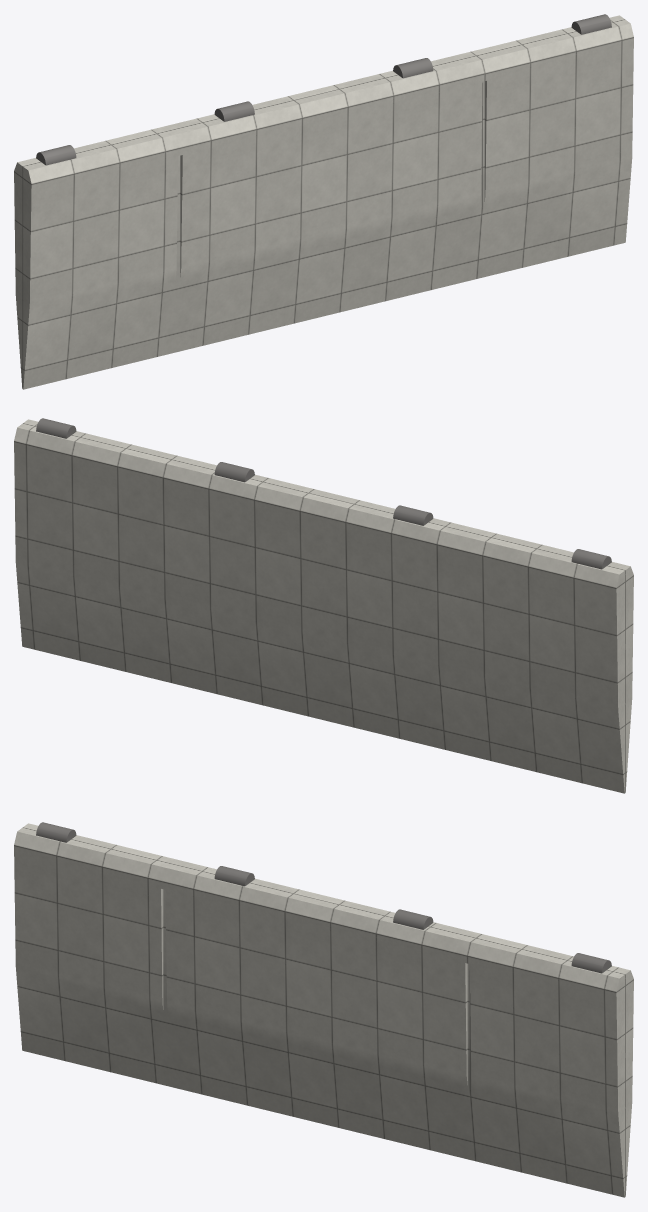
File: ax_aero_25_csf_flap_m.glb
The picture shows the model from 3 angles, top to bottom: view 1: azimuth 30°, elevation 25°; view 2: azimuth 150°, elevation 25°; view 3: azimuth 330°, elevation 25°; orthographic projection.
Parts seen in each view (by area): view 1: surface, hinge_fittings; view 2: surface, hinge_fittings; view 3: surface, hinge_fittings.
Boxes of the visible parts, <box> form: surface: <box>14,15,633,389</box>; hinge_fittings: <box>36,14,611,165</box>; surface: <box>14,419,633,793</box>; hinge_fittings: <box>36,418,611,569</box>; surface: <box>14,823,633,1197</box>; hinge_fittings: <box>36,822,611,973</box>.
Size of the model in its own units: 1.98 by 0.728 by 0.1.
2 materials, 2 textured.
